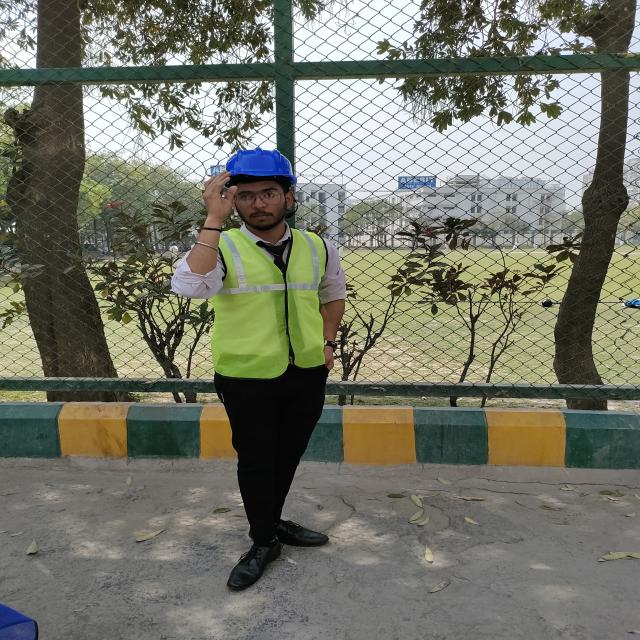safe: (172, 148, 346, 590)
